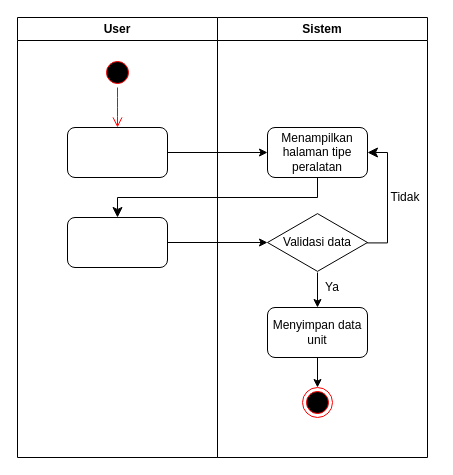
Image size: 453x475. Some labels were removed from this diagram. Here are the shapes that lost their labels. From the top down, the centre of each, then its label:
[117,152]: Membuka halaman tipe peralatan
[117,242]: Mengisi formulir tambah data tipe peralatan
